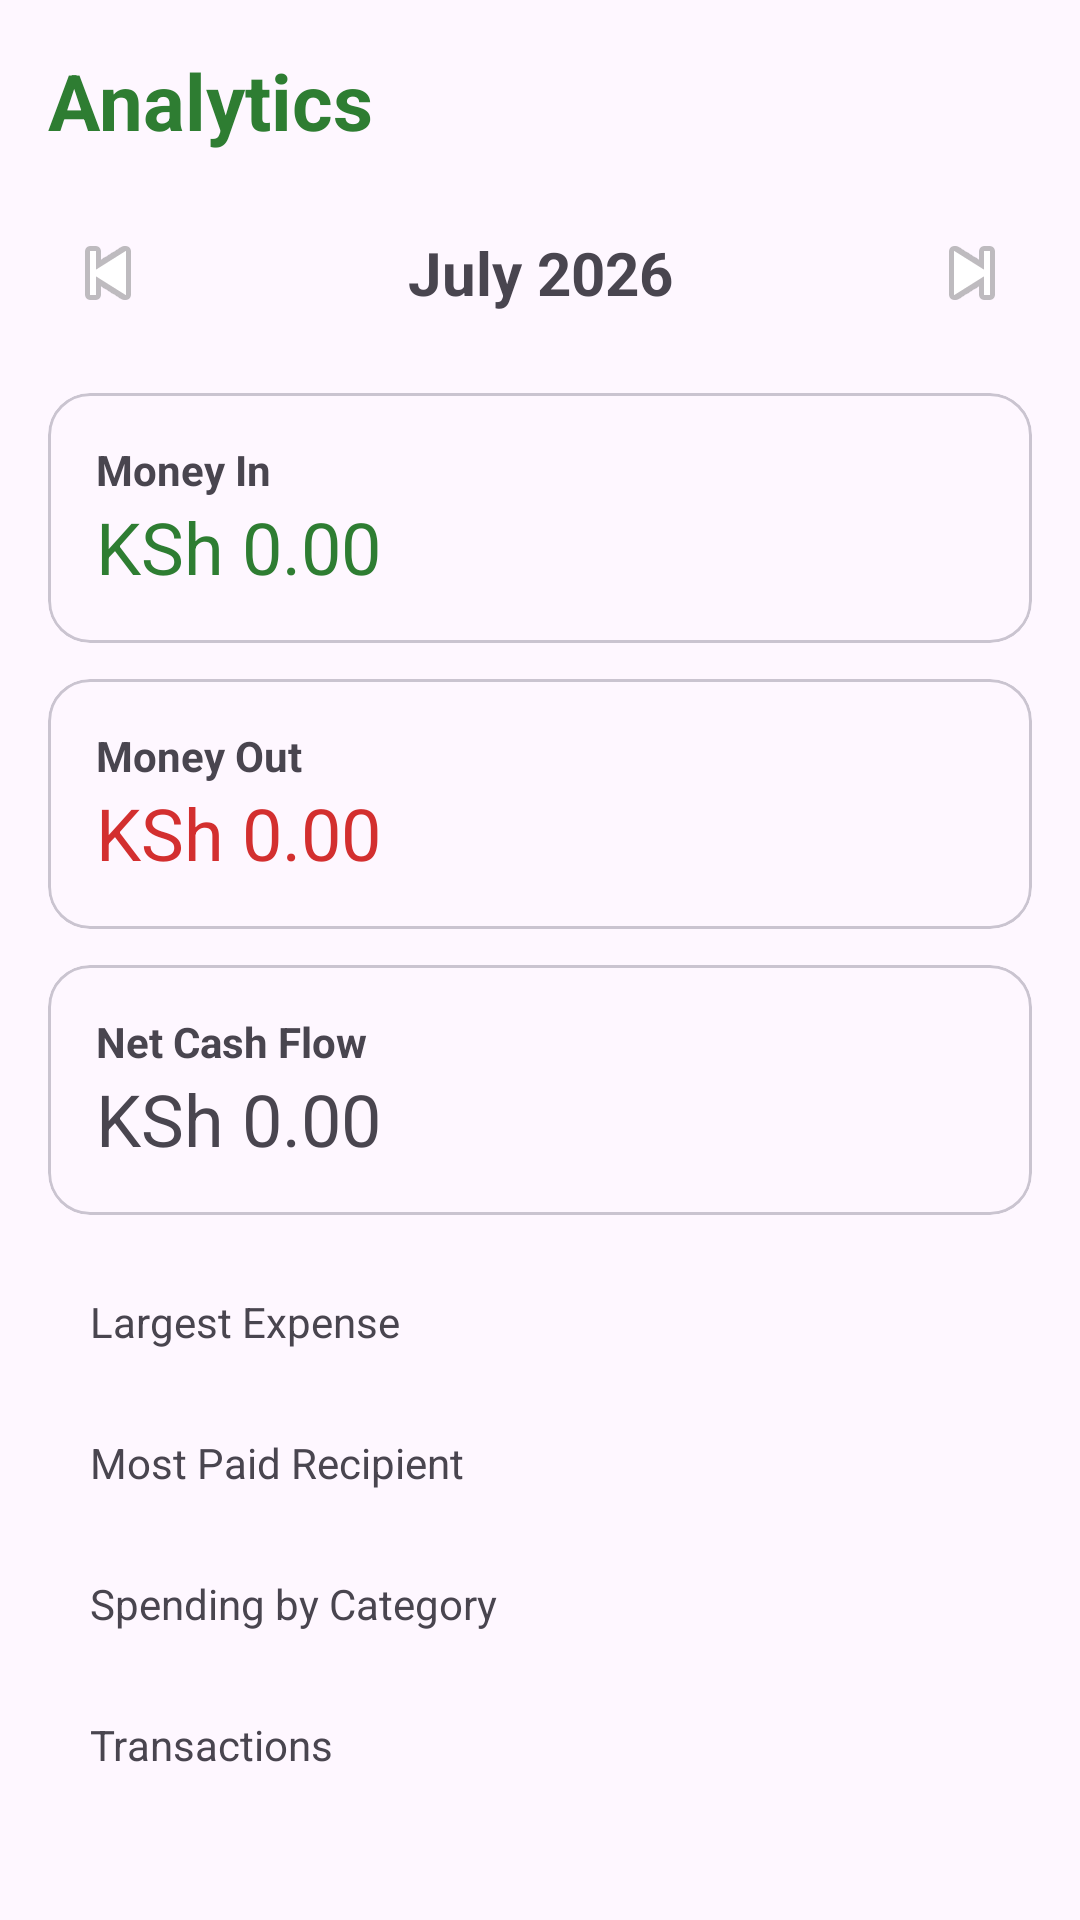

Named icons in this screenshot (1080px×1920px) and their bounding boxes, {"left": x1, "top": y1, "right": x2, "bottom": y2}:
next: {"left": 949, "top": 246, "right": 995, "bottom": 300}
previous: {"left": 85, "top": 246, "right": 131, "bottom": 300}
